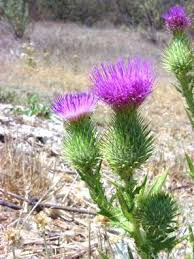bull thistle: (88, 56, 159, 176), (49, 88, 106, 176), (158, 5, 194, 74)
